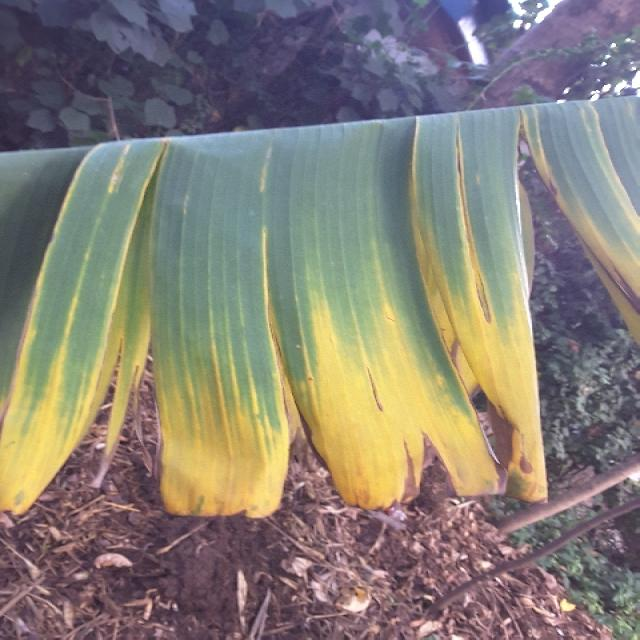Cordana: (10, 129, 640, 525)
